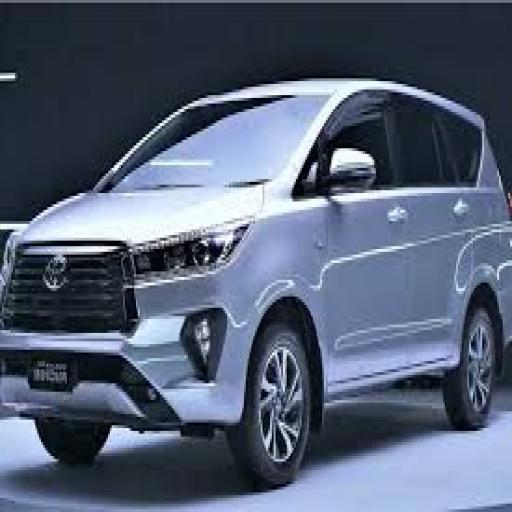car: (7, 64, 509, 486)
